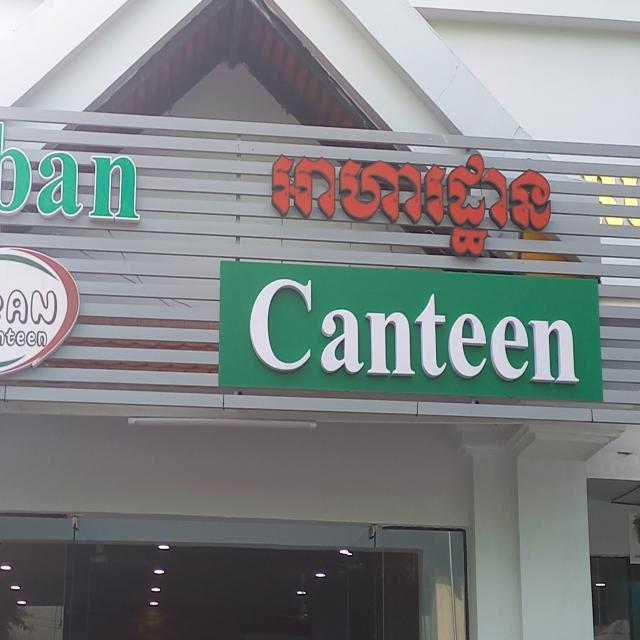Yolov11kh: (266, 136, 577, 262)
